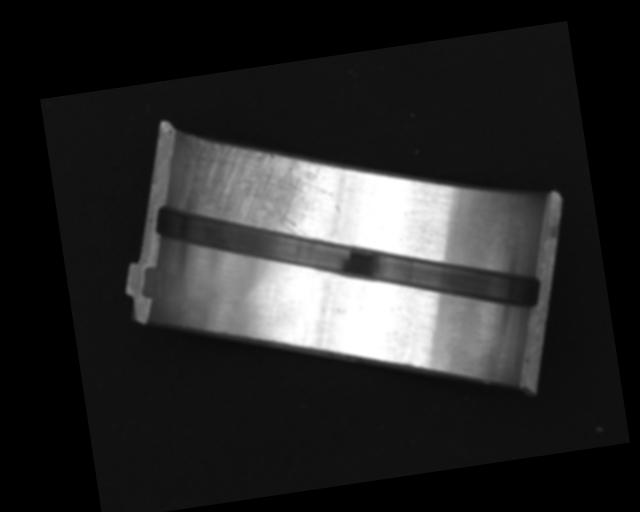gap: (152, 152, 543, 361)
scratch: (176, 119, 338, 256)
